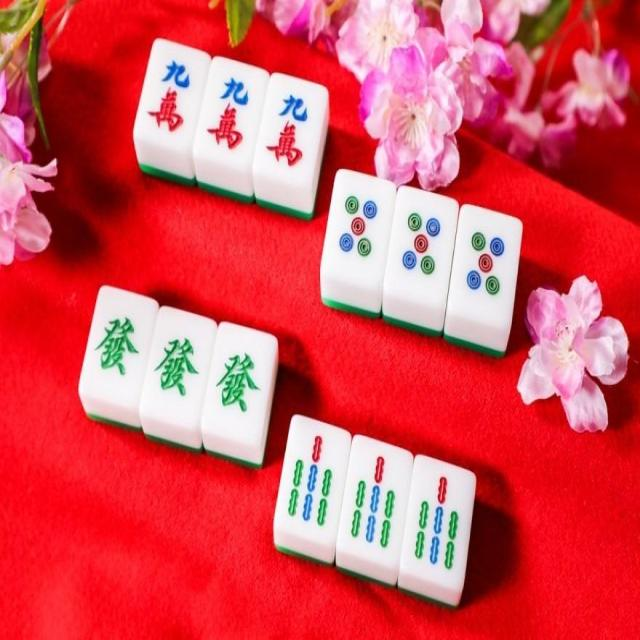fa: (138, 306, 218, 426), (198, 323, 275, 439), (84, 288, 157, 404)
m9: (258, 78, 326, 177), (140, 42, 208, 140), (200, 62, 266, 159)
s7: (401, 463, 476, 586), (337, 438, 412, 558), (275, 422, 349, 540)
t5: (447, 210, 522, 330), (325, 169, 394, 280), (386, 189, 458, 295)
